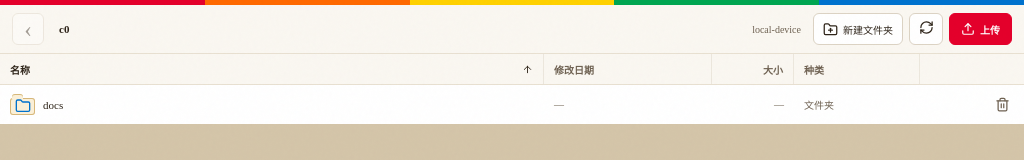
Test: channel file browser (FilesFeature + useAttachmentTransactions) › opens a directory with one row click without previewing it
Click the row "docs — — 文件夹".
click(512, 104)  # box [0,85,1023,124]
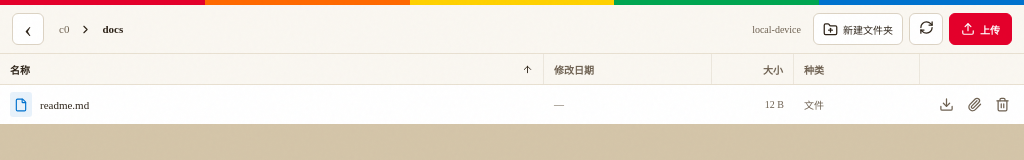
expect the row "readme.md — 12 B 文件" is shown: met, box [0,85,1023,124]
